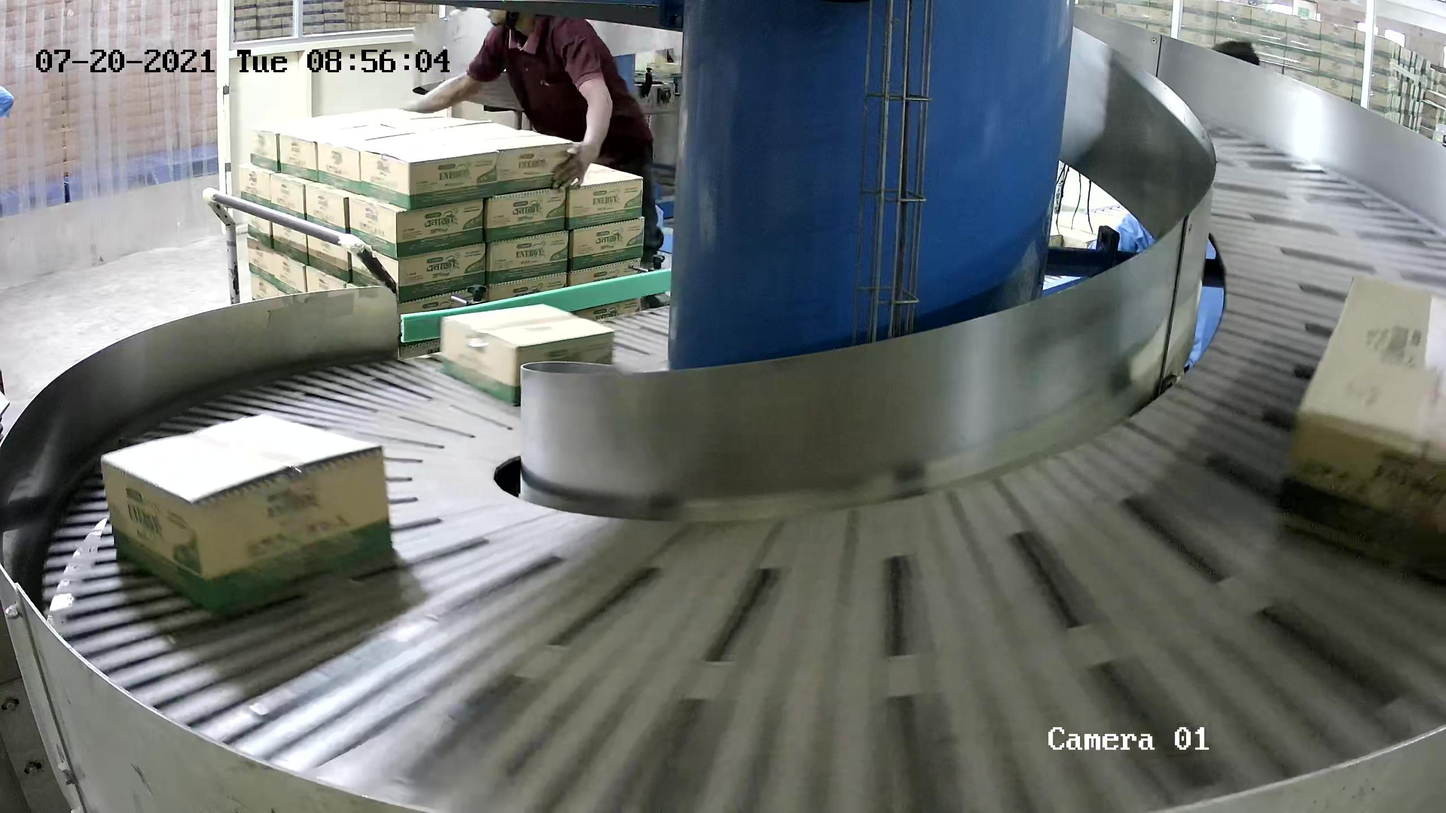Box: (100, 413, 398, 619), (1273, 271, 1446, 590), (439, 302, 617, 407)
